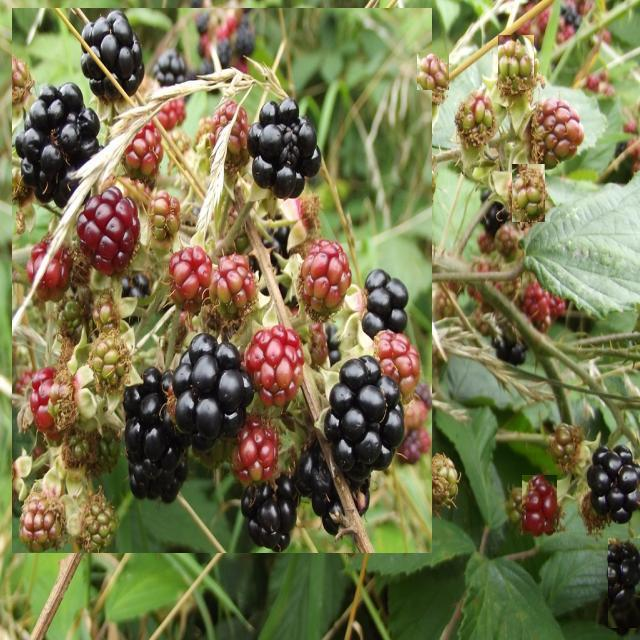Grape: (12, 8, 432, 553), (588, 442, 640, 524), (525, 102, 585, 164), (608, 538, 640, 628), (453, 96, 491, 152), (498, 35, 534, 90), (522, 475, 557, 531), (512, 164, 545, 222), (522, 282, 561, 331), (417, 52, 449, 90), (492, 328, 524, 362)
